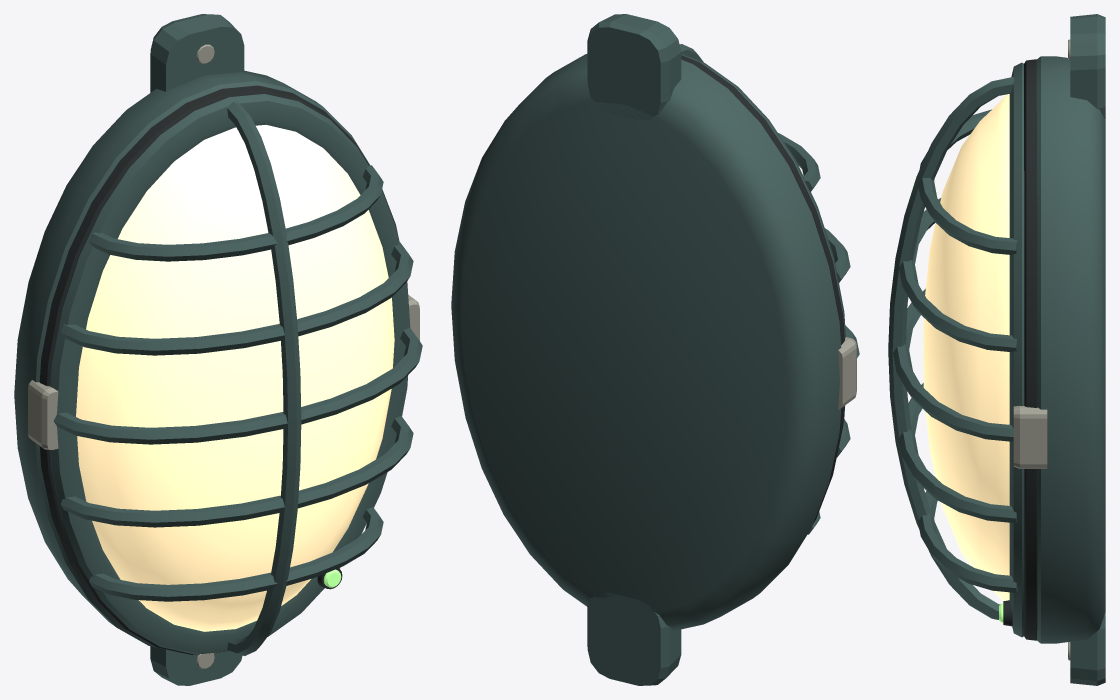
3 renders of one model, left to right at view 1: azimuth 30°, elevation 25°; view 2: azimuth 150°, elevation 25°; view 3: azimuth 270°, elevation 25°, orthographic.
Parts seen in each view (by area): view 1: Fixture; view 2: Fixture; view 3: Fixture.
Part boxes in pixels (x1,y1,x2,y2): Fixture: (14,14,422,685); Fixture: (451,14,859,685); Fixture: (888,14,1105,685).
Bounding box in the file's own units: 0.207 × 0.343 × 0.104.
